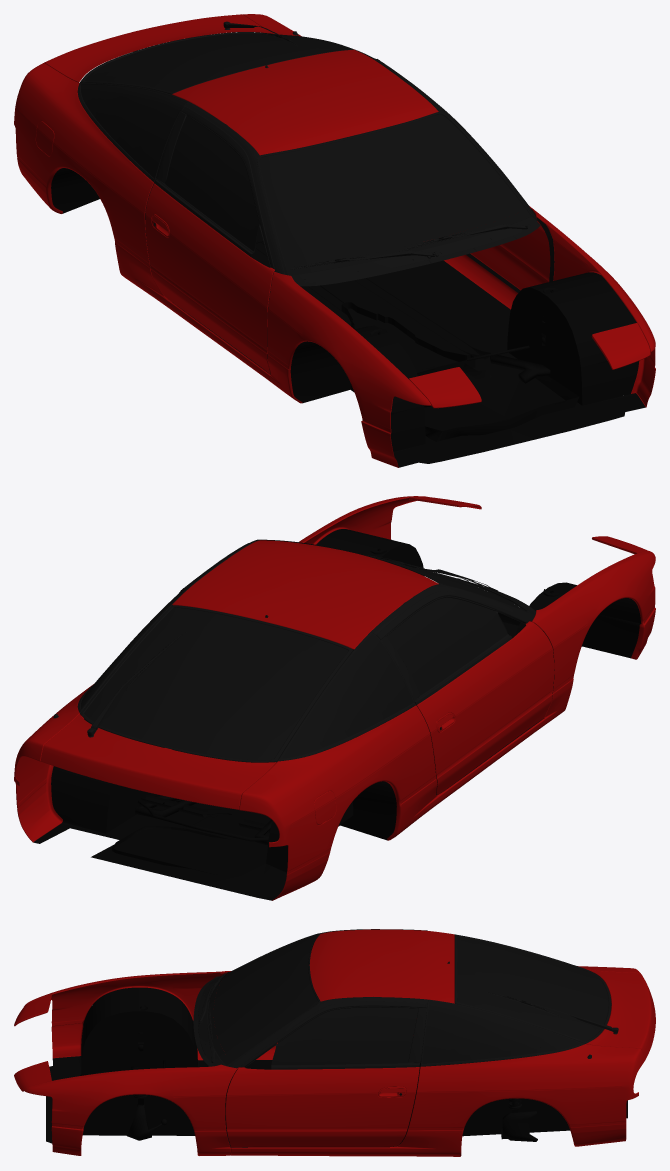
File: chassis.glb
The picture shows the model from 3 angles, top to bottom: view 1: azimuth 30°, elevation 25°; view 2: azimuth 150°, elevation 25°; view 3: azimuth 270°, elevation 25°; orthographic projection. The views are drawn at different scales.
Parts seen in each view (by area): view 1: Body, Windows, Undercarriage, Roof, Plastic, Rubber, Wipers; view 2: Body, Windows, Undercarriage, Roof, Plastic, Rubber, Wipers; view 3: Body, Windows, Undercarriage, Roof, Plastic, Rubber, Wipers.
Part boxes in pixels (x1=…): Body: x1=14, y1=14, x2=655, y2=467; Windows: x1=81, y1=33, x2=531, y2=275; Undercarriage: x1=51, y1=168, x2=645, y2=467; Roof: x1=172, y1=49, x2=438, y2=155; Plastic: x1=77, y1=35, x2=540, y2=286; Rubber: x1=80, y1=31, x2=536, y2=275; Wipers: x1=223, y1=21, x2=528, y2=269; Body: x1=14, y1=496, x2=655, y2=900; Windows: x1=81, y1=554, x2=528, y2=760; Undercarriage: x1=33, y1=529, x2=641, y2=900; Roof: x1=172, y1=540, x2=438, y2=649; Plastic: x1=77, y1=540, x2=535, y2=761; Rubber: x1=53, y1=539, x2=534, y2=762; Wipers: x1=87, y1=555, x2=527, y2=737; Body: x1=14, y1=966, x2=655, y2=1156; Windows: x1=208, y1=935, x2=608, y2=1065; Undercarriage: x1=46, y1=987, x2=627, y2=1147; Roof: x1=309, y1=929, x2=454, y2=1003; Plastic: x1=193, y1=929, x2=584, y2=1069; Rubber: x1=208, y1=933, x2=611, y2=1067; Wipers: x1=198, y1=972, x2=618, y2=1062.
Size of the model in its own units: 1.7 by 1.12 by 4.22.
